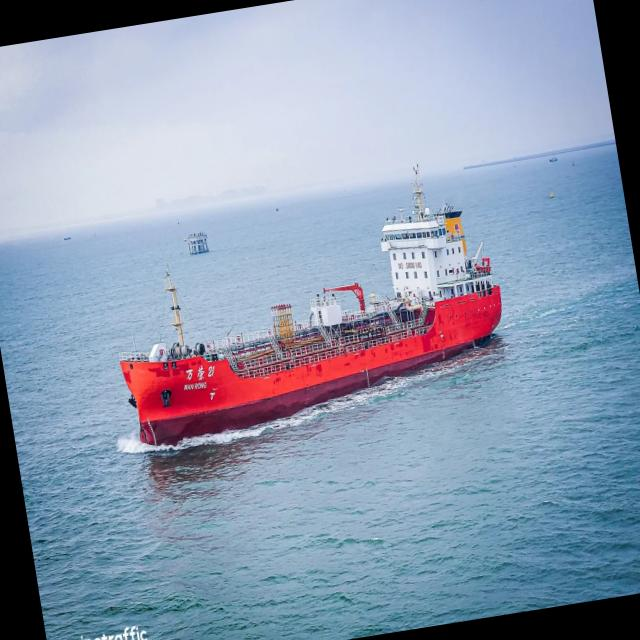Tanker: (119, 173, 501, 446)
